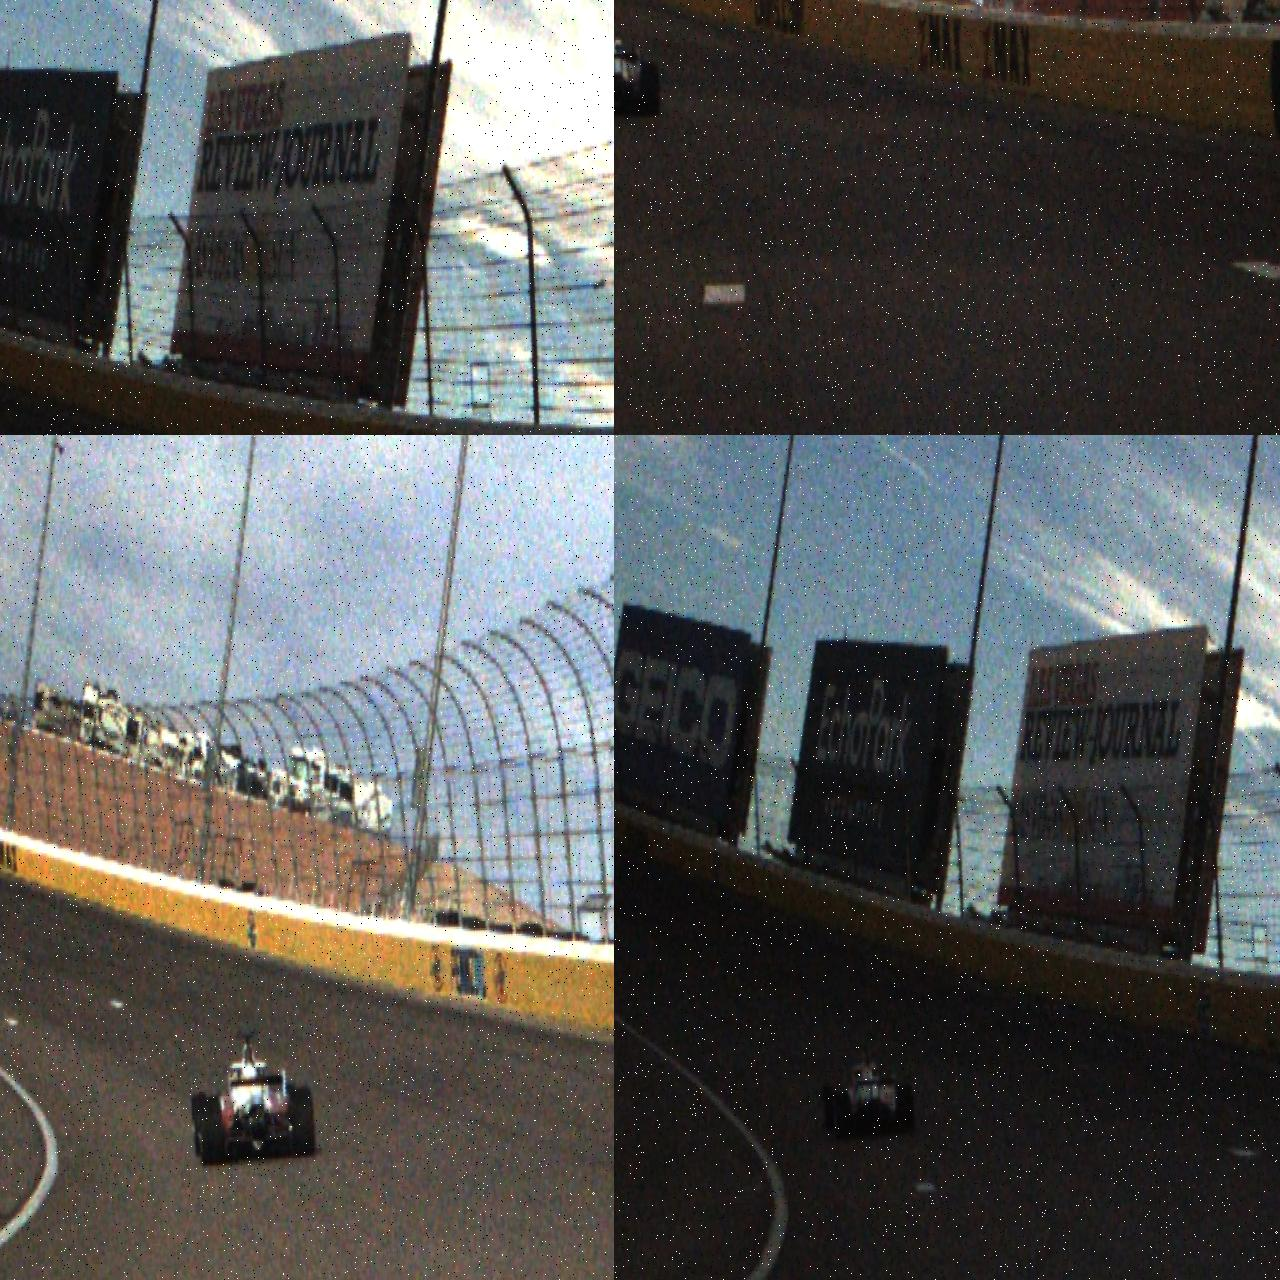AV: (189, 1029, 315, 1167), (819, 1041, 915, 1141), (614, 14, 660, 120)
Wheel: (197, 1097, 223, 1166), (290, 1087, 314, 1158), (191, 1092, 210, 1157), (640, 60, 660, 116), (897, 1084, 915, 1133), (833, 1089, 850, 1141), (822, 1085, 837, 1130)
